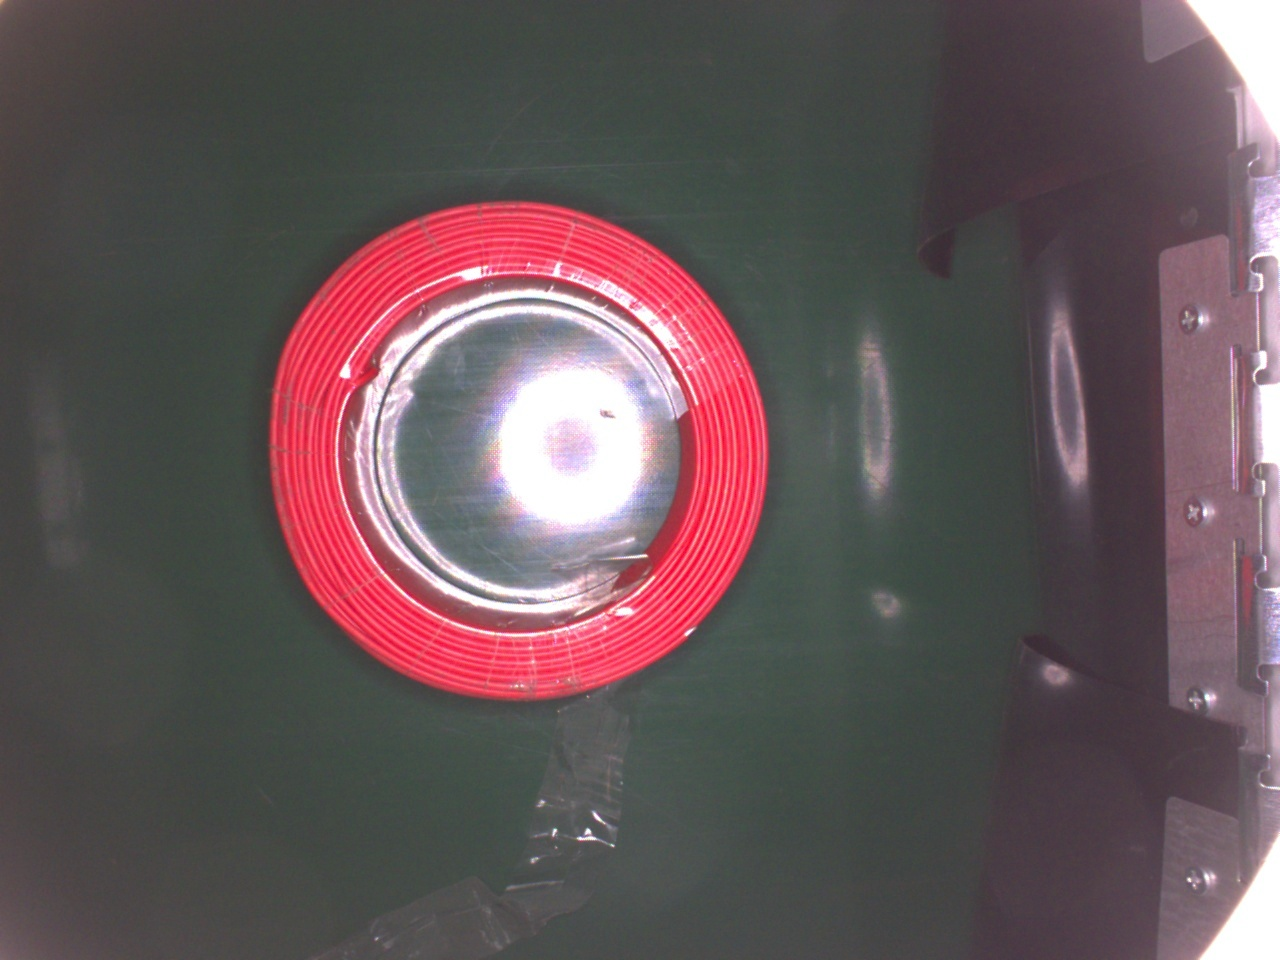red: (269, 196, 768, 701)
